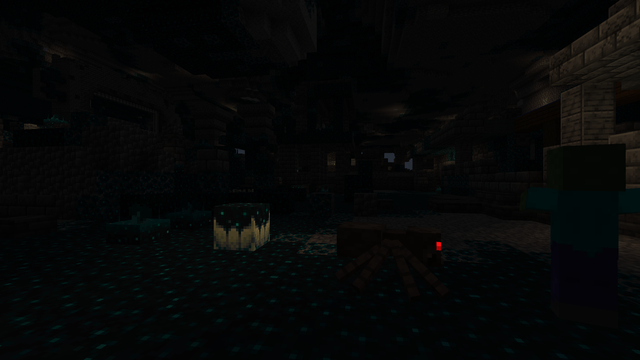araignees: (351, 215, 453, 296)
zombies: (536, 148, 639, 336)
